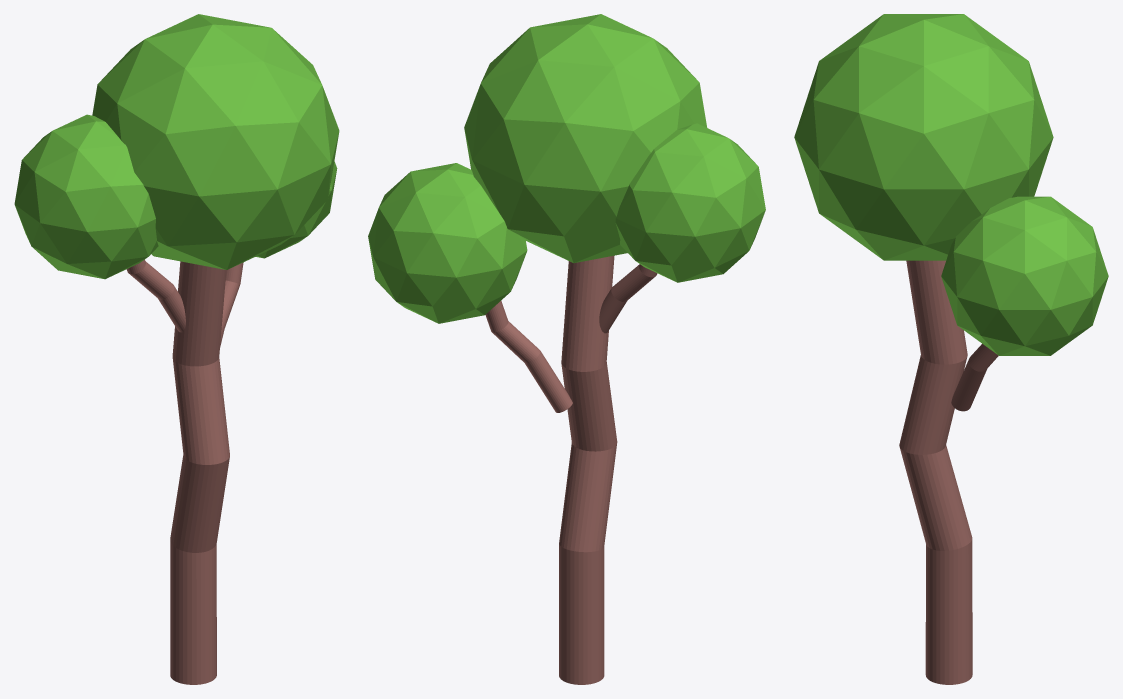
Rendered from tree-type-C.fbx.
3 renders of one model, left to right at view 1: azimuth 30°, elevation 25°; view 2: azimuth 150°, elevation 25°; view 3: azimuth 270°, elevation 25°, orthographic. The views are drawn at different scales.
Visible parts, largest first — view 1: 1.3 tree-type-C; view 2: 1.3 tree-type-C; view 3: 1.3 tree-type-C.
Boxes of the visible parts, box(x1,y1,x2,y2) form: 1.3 tree-type-C: box(14, 14, 339, 684); 1.3 tree-type-C: box(368, 14, 765, 684); 1.3 tree-type-C: box(794, 14, 1108, 684).
Bounding box in the file's own units: 2.06 × 3.82 × 1.65.
